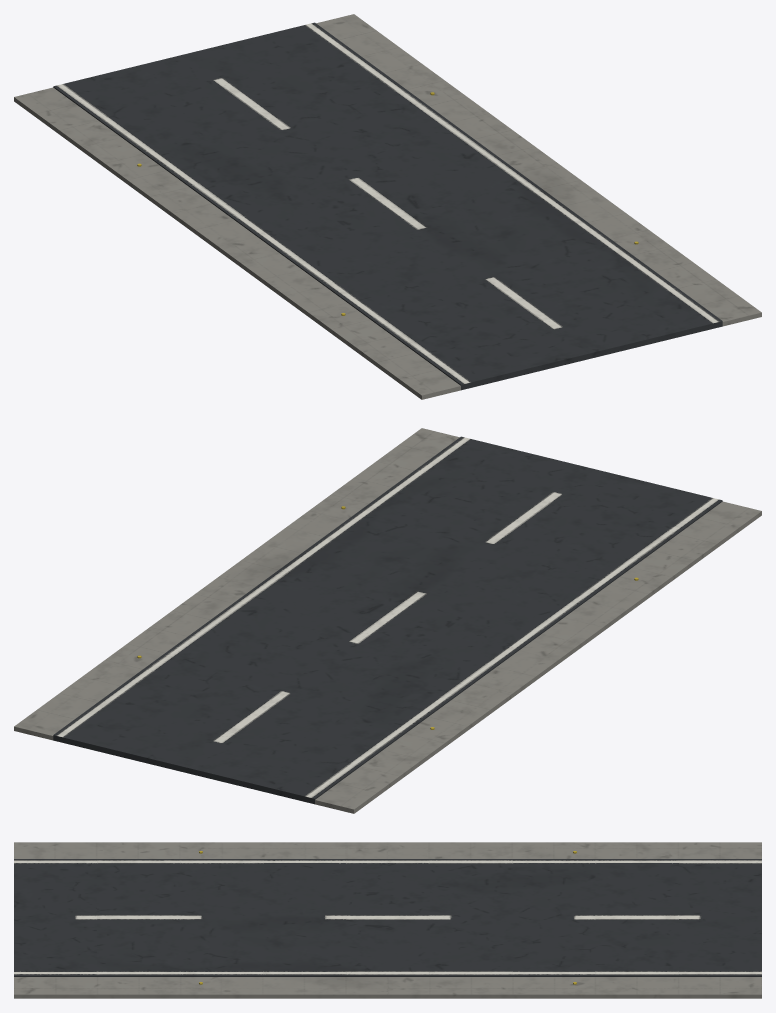
Rendered from runway-segment.fbx.
3 views of the same model, one above another, from view 1: azimuth 30°, elevation 25°; view 2: azimuth 150°, elevation 25°; view 3: azimuth 270°, elevation 25° (orthographic). The views are drawn at different scales.
Parts seen in each view (by area): view 1: runway-segment; view 2: runway-segment; view 3: runway-segment.
Part boxes in pixels (box(x1,y1,x2,y2)): runway-segment: box(14, 14, 761, 399); runway-segment: box(14, 428, 761, 813); runway-segment: box(14, 842, 761, 998).
Bounding box in the file's own units: 130 × 2.1 × 270.
Materials: 1 (1 with a texture image).
